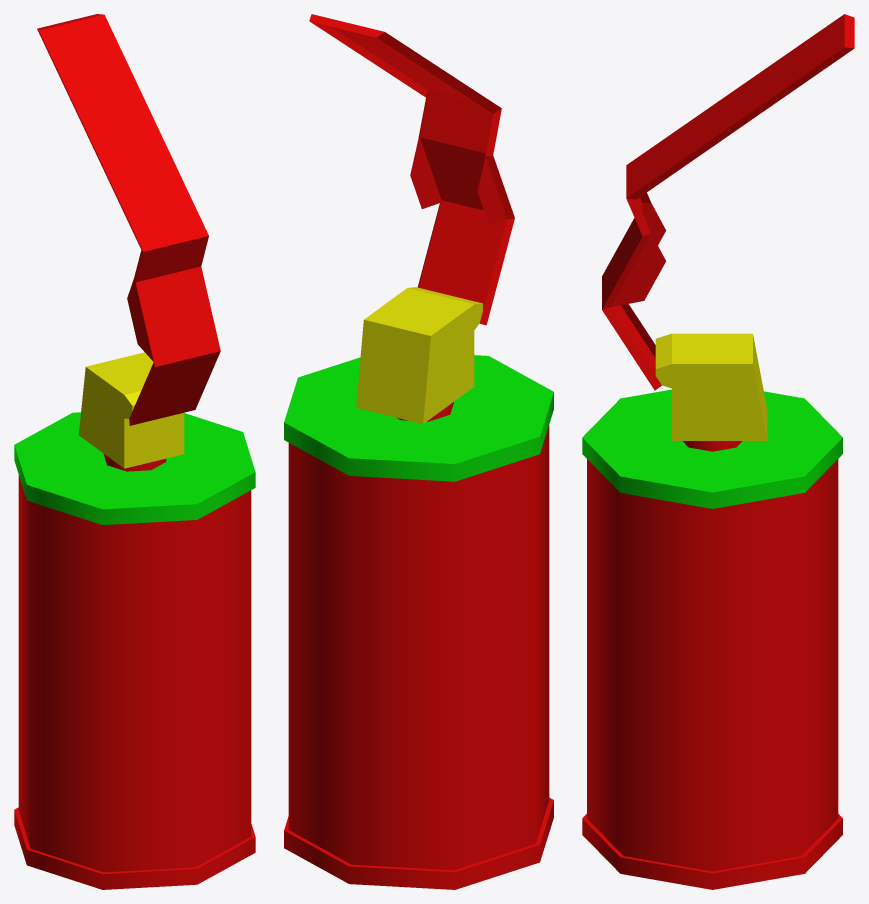
Rendered from smoke_grenade.fbx.
3 renders of one model, left to right at view 1: azimuth 30°, elevation 25°; view 2: azimuth 150°, elevation 25°; view 3: azimuth 270°, elevation 25°, orthographic. The views are drawn at different scales.
Parts seen in each view (by area): view 1: pPlane8; view 2: pPlane8; view 3: pPlane8.
Boxes of the visible parts, left/top/right/bottom form: pPlane8: left=14, top=14, right=255, bottom=889; pPlane8: left=284, top=14, right=553, bottom=889; pPlane8: left=582, top=14, right=854, bottom=889.
Bounding box in the file's own units: 2.07 × 7.05 × 2.17.
